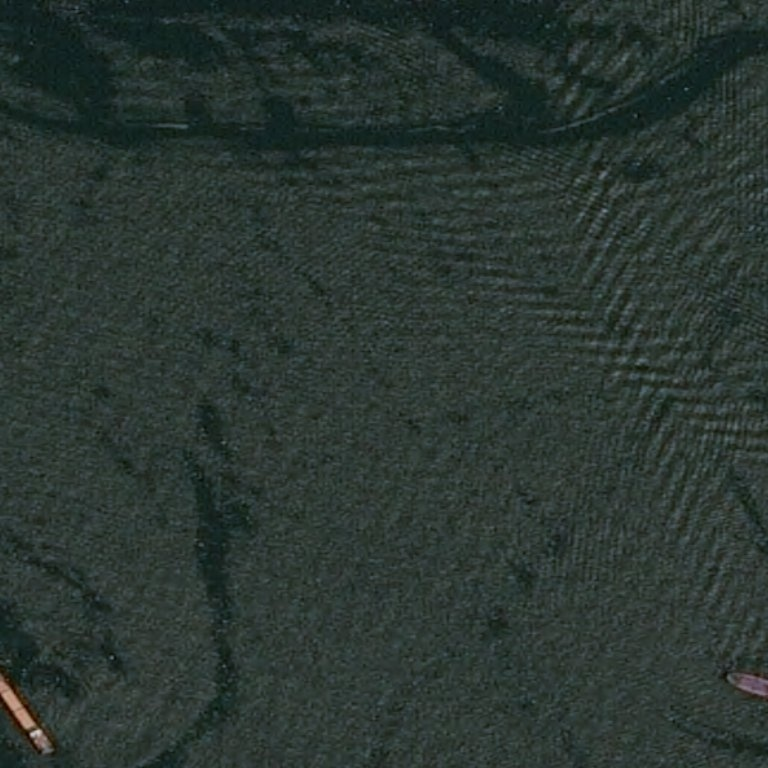ship: (0, 677, 54, 754), (728, 672, 767, 699)
